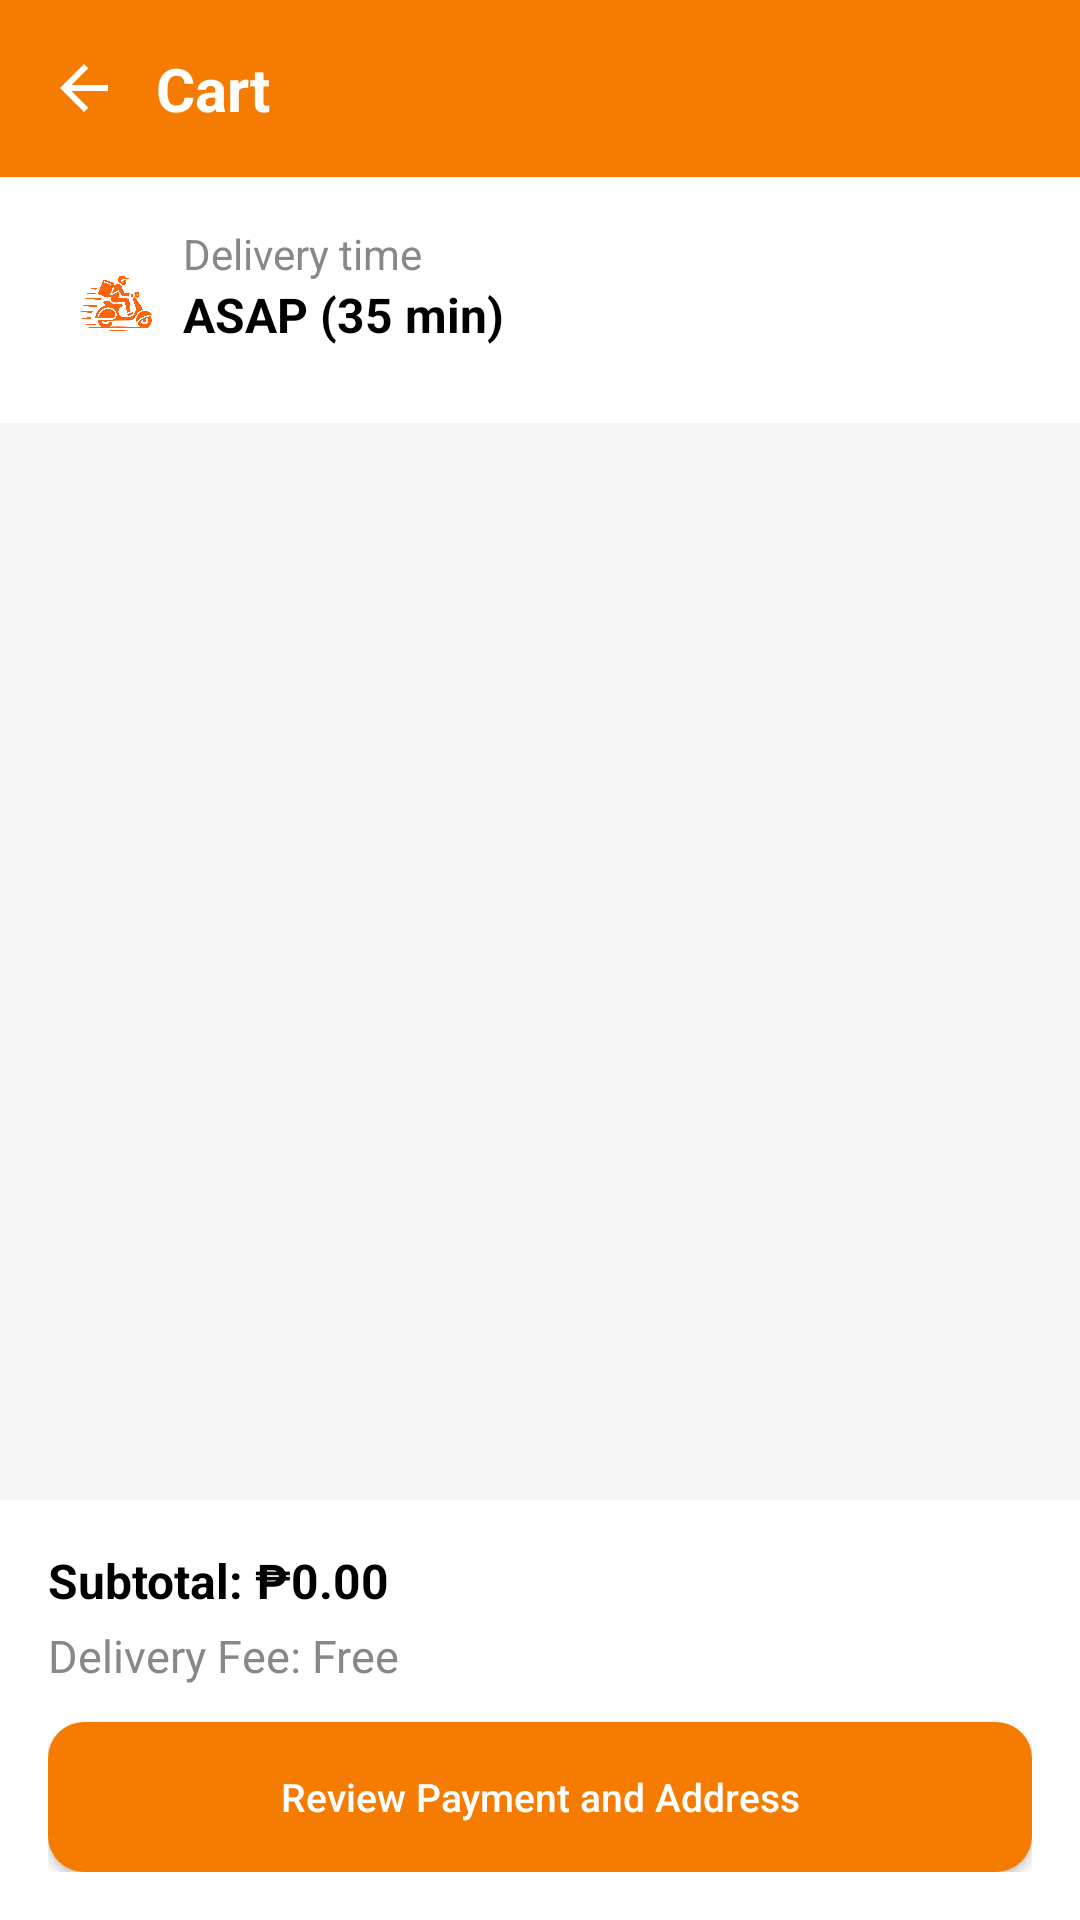

Screen size 1080 × 1920. Icon name, then its center in pixels as [x,y]:
Back: [84,88]
